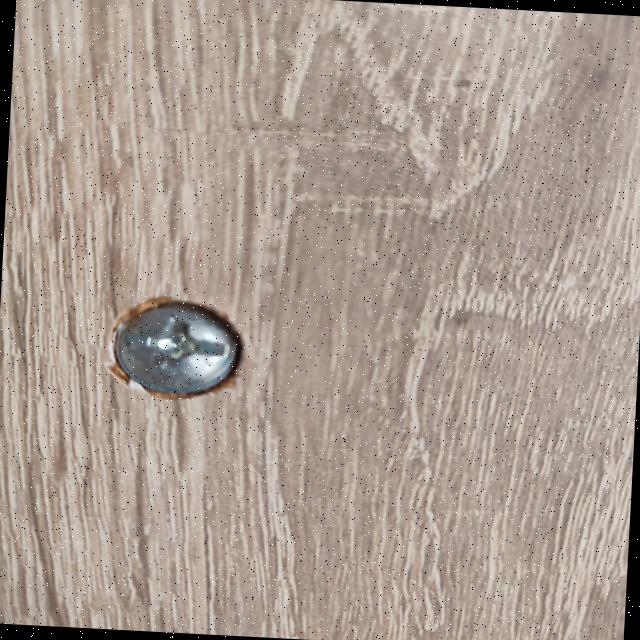Phillips: (90, 292, 252, 412)
